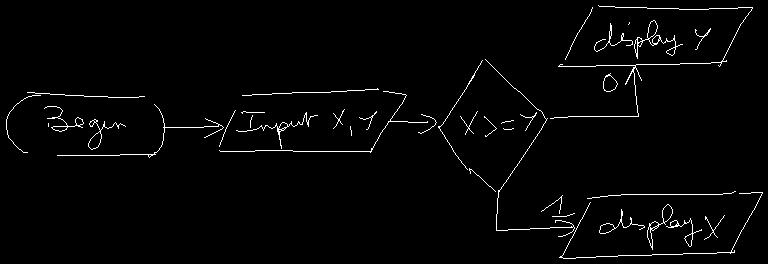arrow: (550, 66, 641, 118), (496, 190, 574, 236), (163, 118, 223, 137), (388, 114, 436, 133)
data: (559, 191, 762, 258), (219, 88, 406, 152), (558, 5, 752, 66)
decision: (438, 59, 547, 192)
terminator: (6, 92, 164, 157)
text: (599, 204, 724, 249), (236, 109, 376, 148), (594, 20, 710, 58), (44, 106, 125, 149), (460, 111, 536, 136), (541, 195, 574, 216), (603, 73, 617, 91)
